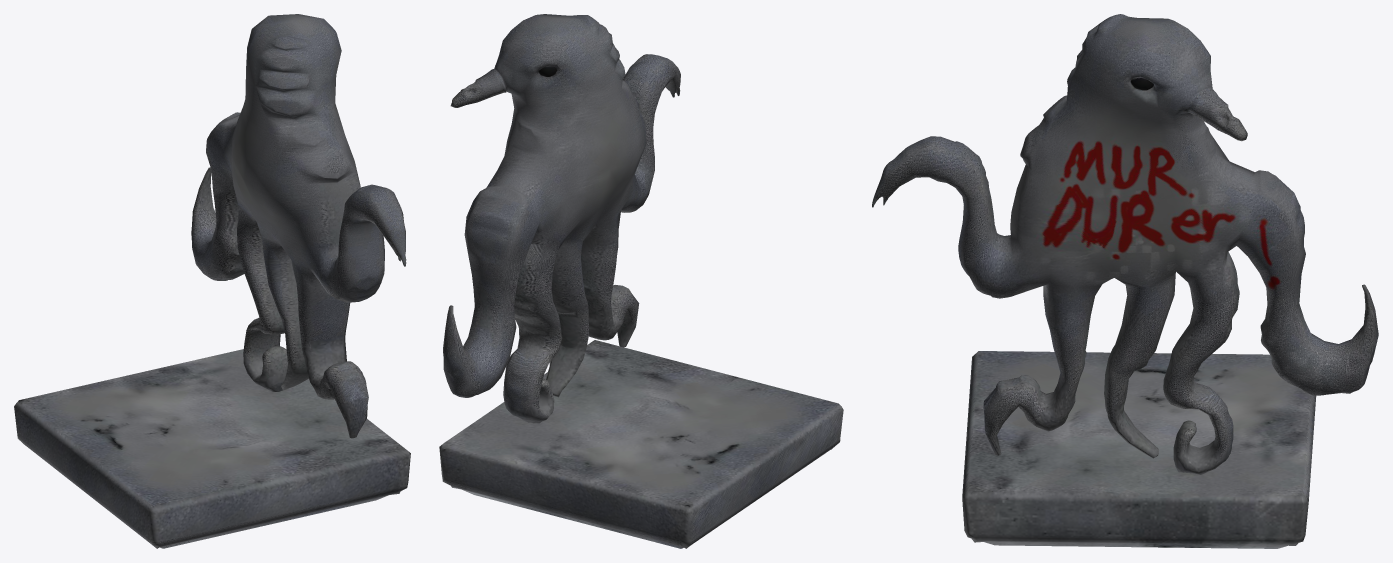
Rendered from statue-bird-squid.glb.
The picture shows the model from 3 angles, left to right: view 1: azimuth 30°, elevation 25°; view 2: azimuth 150°, elevation 25°; view 3: azimuth 270°, elevation 25°; orthographic projection. The views are drawn at different scales.
Parts seen in each view (by area): view 1: vizcom_node_0; view 2: vizcom_node_0; view 3: vizcom_node_0.
Part boxes in pixels (x1,y1,x2,y2): vizcom_node_0: (14, 14, 410, 548); vizcom_node_0: (439, 14, 843, 548); vizcom_node_0: (872, 14, 1378, 548).
Size of the model in its own units: 0.3328 by 0.5 by 0.449.
1 material, 1 textured.
